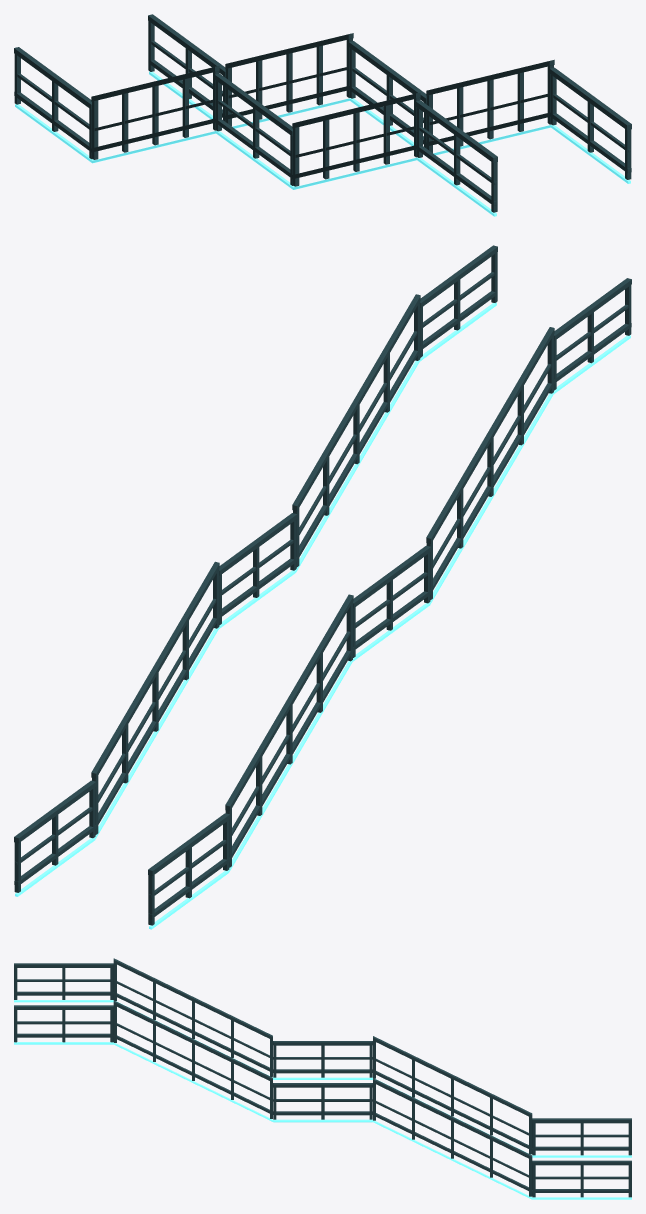
Rendered from d06_harbour_footbridge_06_main.glb.
3 renders of one model, top to bottom at view 1: azimuth 30°, elevation 25°; view 2: azimuth 150°, elevation 25°; view 3: azimuth 270°, elevation 25°, orthographic. The views are drawn at different scales.
Visible parts, largest first — view 1: D06HarbourFootbridge06_main_Mesh; view 2: D06HarbourFootbridge06_main_Mesh; view 3: D06HarbourFootbridge06_main_Mesh.
Boxes of the visible parts, x1,y1,x2,y2 form: D06HarbourFootbridge06_main_Mesh: (14,14,631,216); D06HarbourFootbridge06_main_Mesh: (14,245,631,929); D06HarbourFootbridge06_main_Mesh: (14,958,631,1199).
Bounding box in the file's own units: 3.32 × 7.03 × 19.84.
